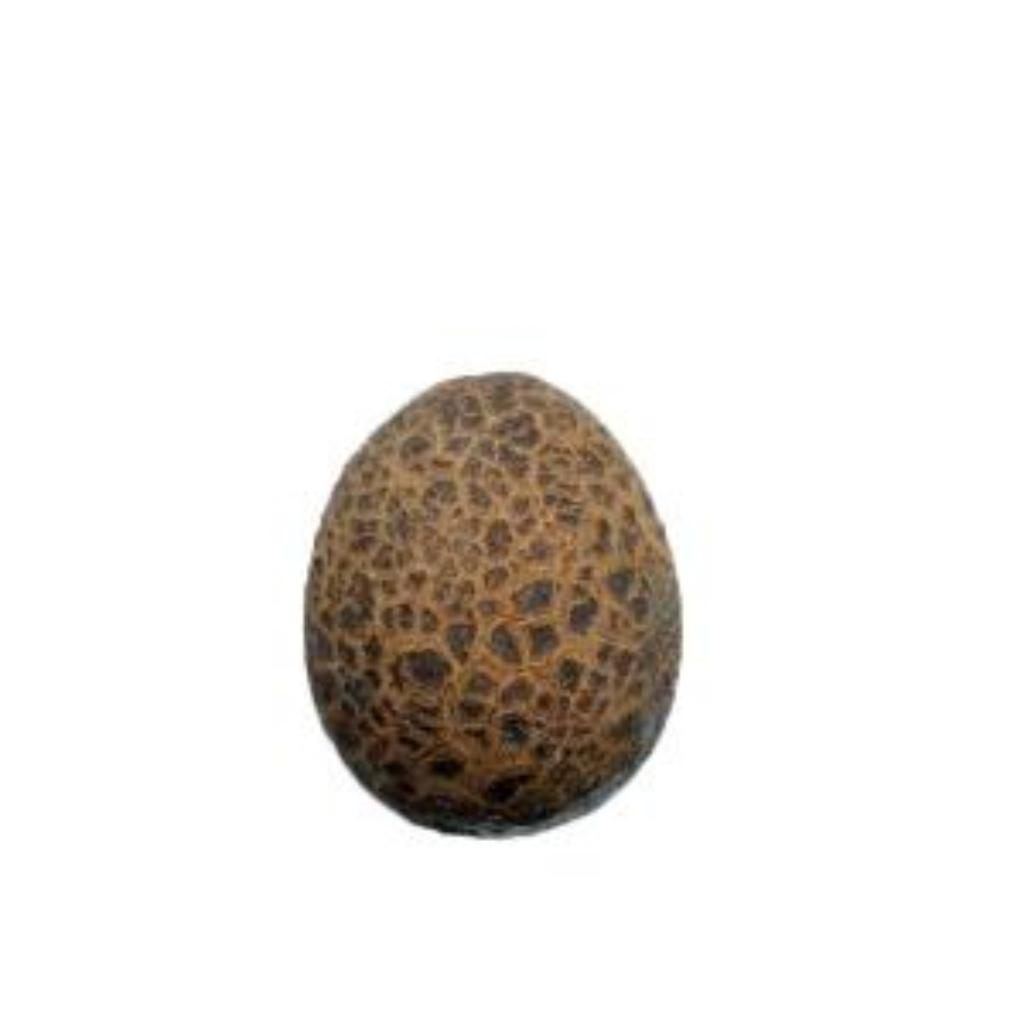cercospora: (304, 351, 702, 853)
